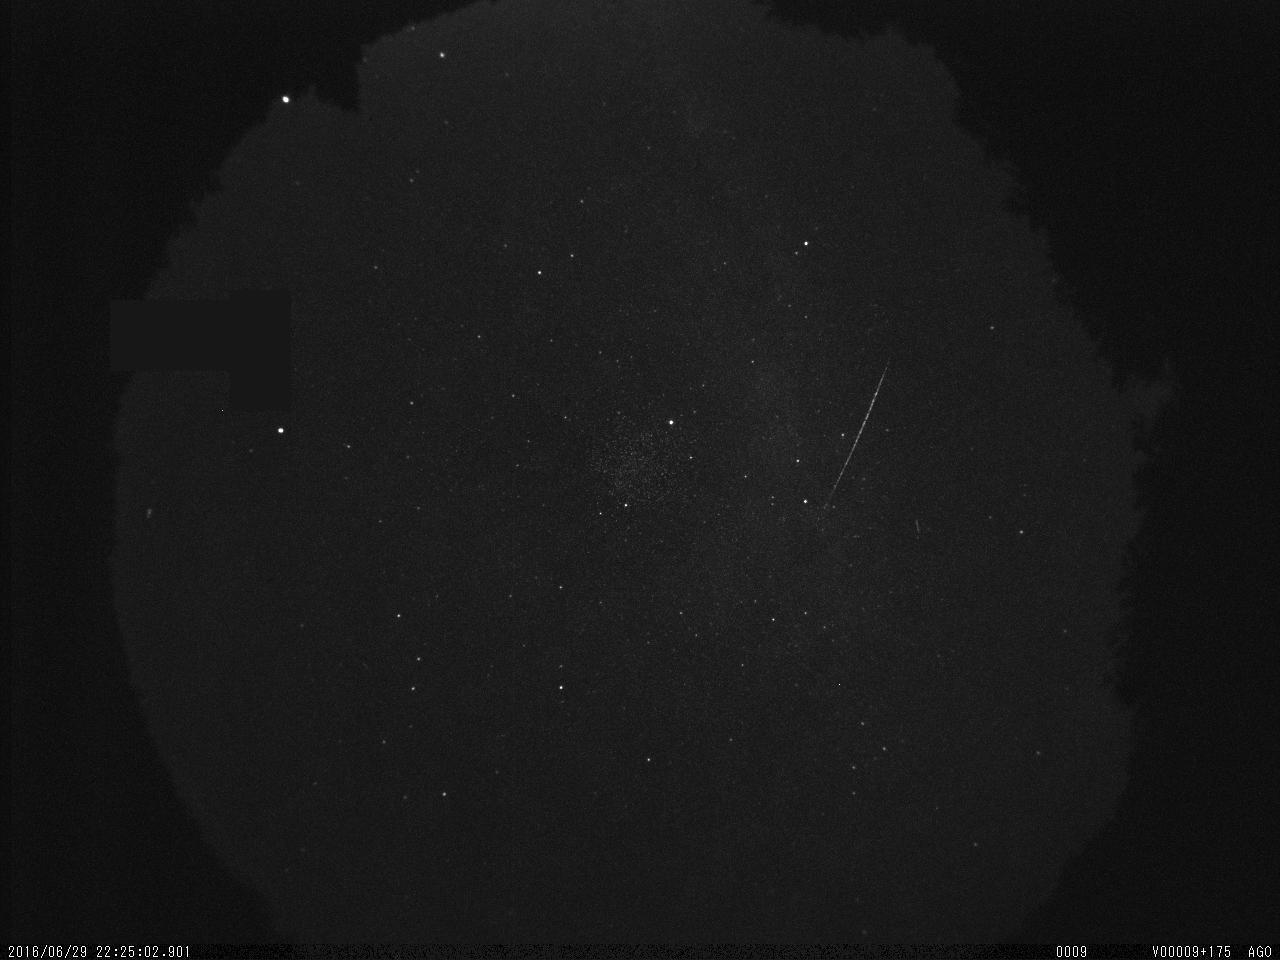Meteor: (822, 367, 892, 510)
